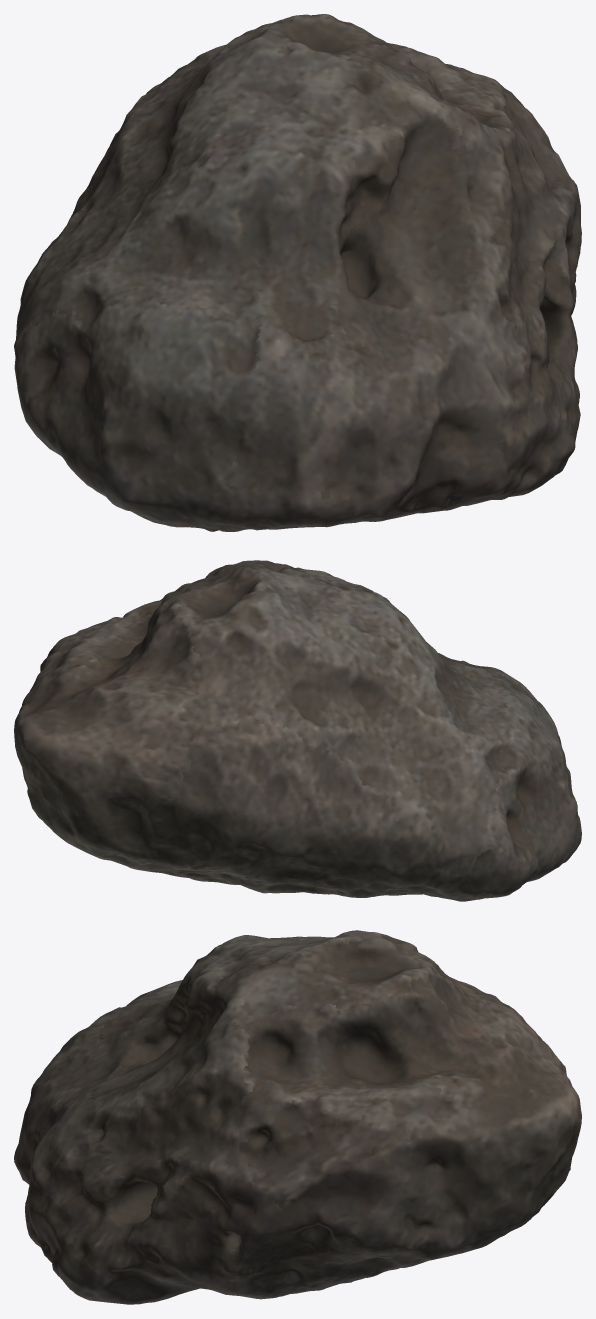
The model's file is asteroid_common_4_lod1.glb.
The picture shows the model from 3 angles, top to bottom: view 1: azimuth 30°, elevation 25°; view 2: azimuth 150°, elevation 25°; view 3: azimuth 270°, elevation 25°; orthographic projection. The views are drawn at different scales.
Visible parts, largest first — view 1: model; view 2: model; view 3: model.
Boxes of the visible parts, <box> form: model: <box>14,14,581,531</box>; model: <box>14,560,581,901</box>; model: <box>14,930,581,1304</box>.
Bounding box in the file's own units: 1.84 × 1.23 × 1.89.
Materials: 1 (1 with a texture image).
